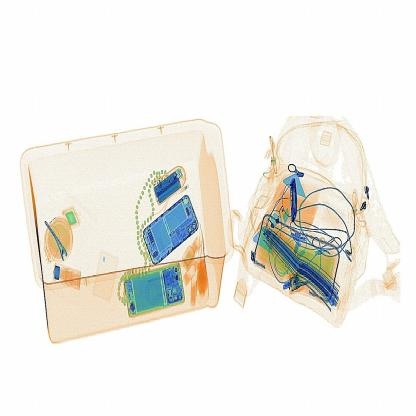knife: (286, 176, 308, 228)
